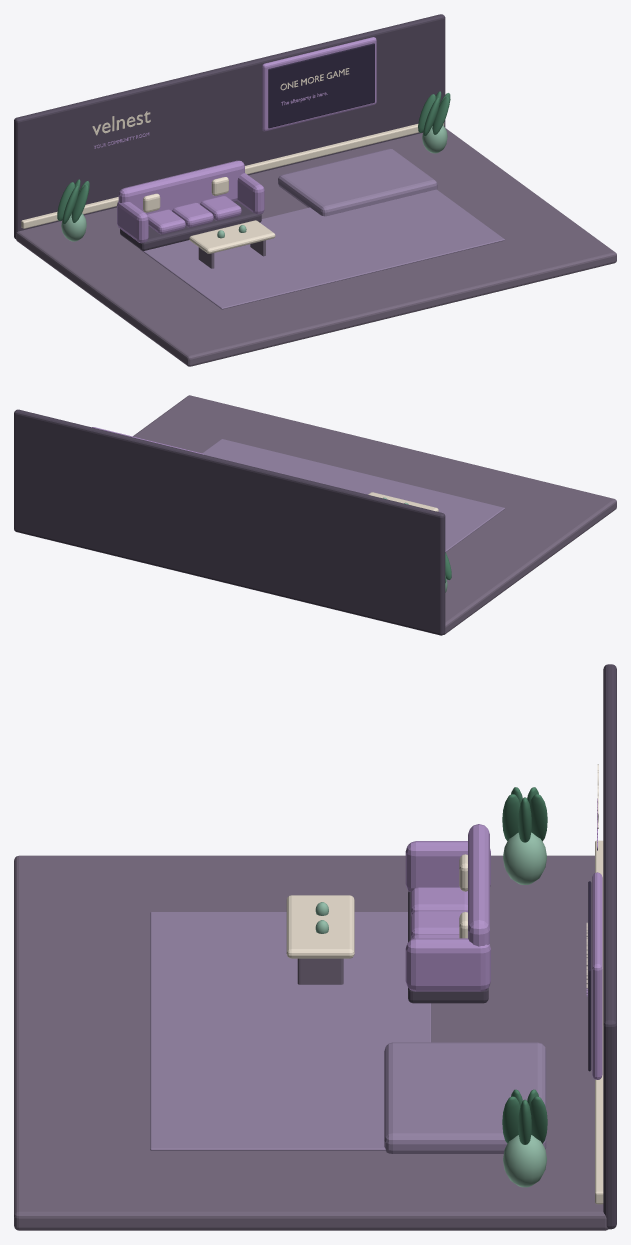
File: afterparty.glb
The picture shows the model from 3 angles, top to bottom: view 1: azimuth 30°, elevation 25°; view 2: azimuth 150°, elevation 25°; view 3: azimuth 270°, elevation 25°; orthographic projection. The views are drawn at different scales.
Visible parts, largest first — view 1: Floor, Back wall, Community rug, Stage, Display, Sofa back, Skirting, Screen frame, Sofa plinth, Coffee table, Sofa arm, Sofa arm.001 (+5 smaller); view 2: Back wall, Floor, Community rug; view 3: Floor, Community rug, Stage, Back wall, Sofa arm.001, Coffee table, Sofa arm, Sofa back, Screen frame, Skirting, Plant pot.001, Plant pot (+5 smaller).
Boxes of the visible parts, <box> form: Floor: <box>16,128,616,366</box>; Back wall: <box>14,14,445,238</box>; Community rug: <box>140,189,504,309</box>; Stage: <box>278,148,437,216</box>; Display: <box>268,43,374,128</box>; Sofa back: <box>118,160,244,214</box>; Skirting: <box>21,122,444,228</box>; Screen frame: <box>262,37,376,131</box>; Sofa plinth: <box>120,201,261,250</box>; Coffee table: <box>189,220,275,253</box>; Sofa arm: <box>117,201,148,243</box>; Sofa arm.001: <box>237,173,264,214</box>; Back wall: <box>14,409,445,635</box>; Floor: <box>133,395,616,634</box>; Community rug: <box>202,439,504,551</box>; Floor: <box>14,855,608,1230</box>; Community rug: <box>150,912,431,1150</box>; Stage: <box>384,1042,546,1153</box>; Back wall: <box>603,664,616,1229</box>; Sofa arm.001: <box>405,938,490,991</box>; Coffee table: <box>286,895,354,958</box>; Sofa arm: <box>405,841,490,891</box>; Sofa back: <box>468,824,489,946</box>; Screen frame: <box>592,872,602,1079</box>; Skirting: <box>595,840,603,1204</box>; Plant pot.001: <box>503,1135,546,1187</box>; Plant pot: <box>503,832,546,884</box>.
Bounding box in the file's own units: 10 × 2.72 × 7.08.
